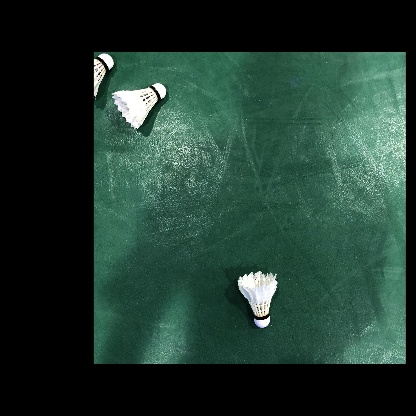ball_single: (111, 83, 166, 129), (237, 271, 277, 328), (94, 53, 114, 99)
